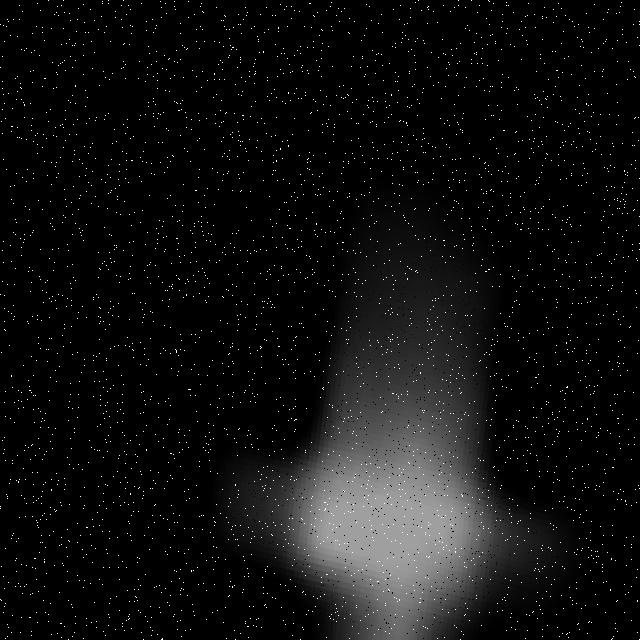person: (197, 190, 637, 640)
